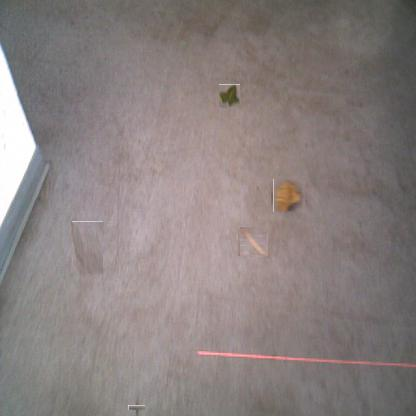dirty: (272, 180, 304, 211), (239, 228, 267, 256), (218, 84, 240, 107)
mark: (71, 221, 103, 274), (131, 402, 142, 413)
